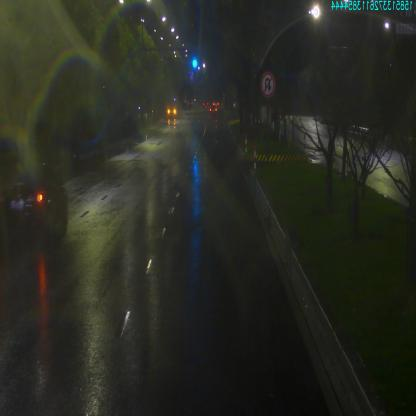traffic-light: (190, 55, 198, 67)
